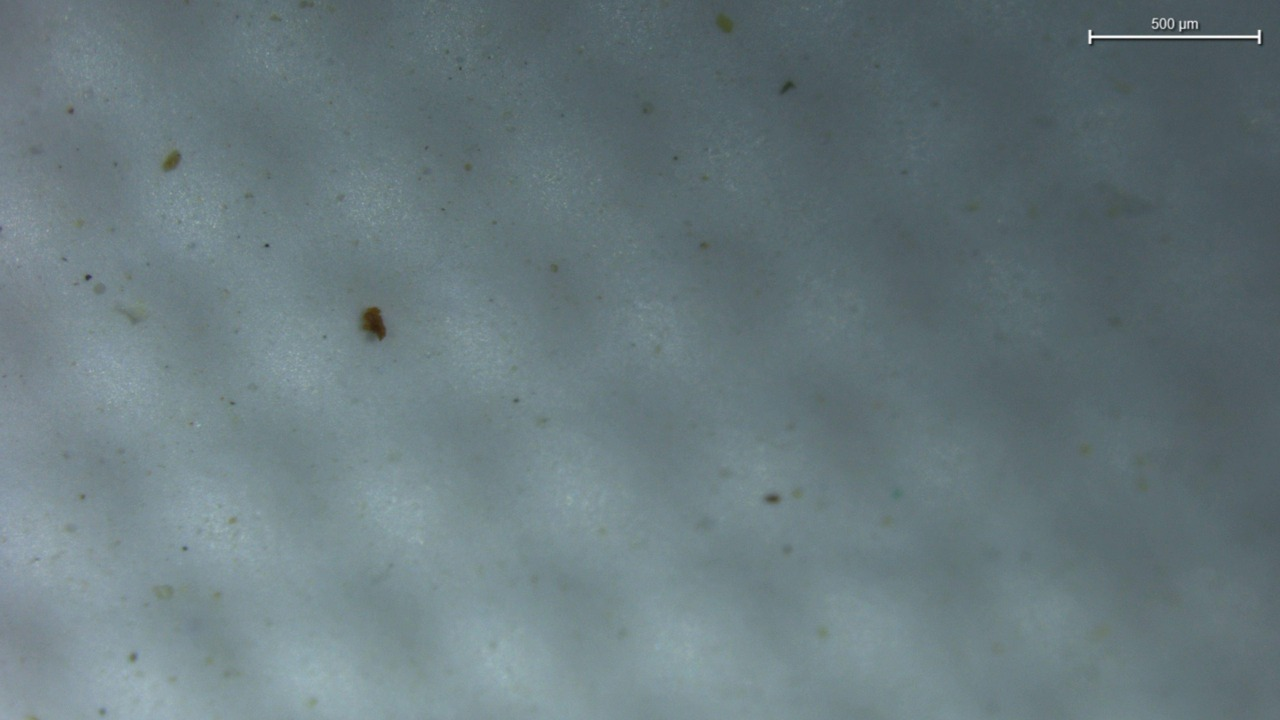microplastic_fragment: (361, 307, 386, 339)
